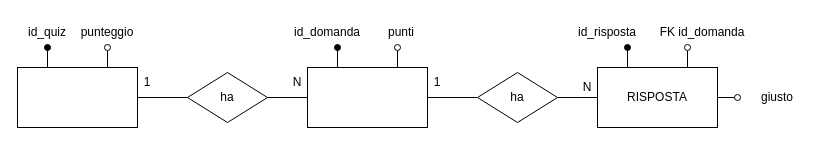
This 825x145 diagram has some shape labels left out. The shapes that lost their labels are listed below. From the top down, each one's centre as x and y in pixels, then its label:
At point (77, 97): "QUIZ".
At point (367, 97): "DOMANDA".
